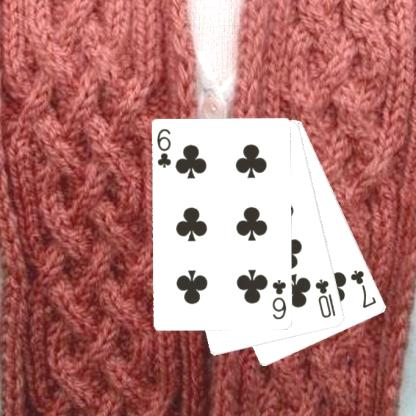10C: (313, 276, 337, 320)
6C: (154, 126, 173, 170), (270, 278, 288, 322)
7C: (348, 267, 378, 310)
